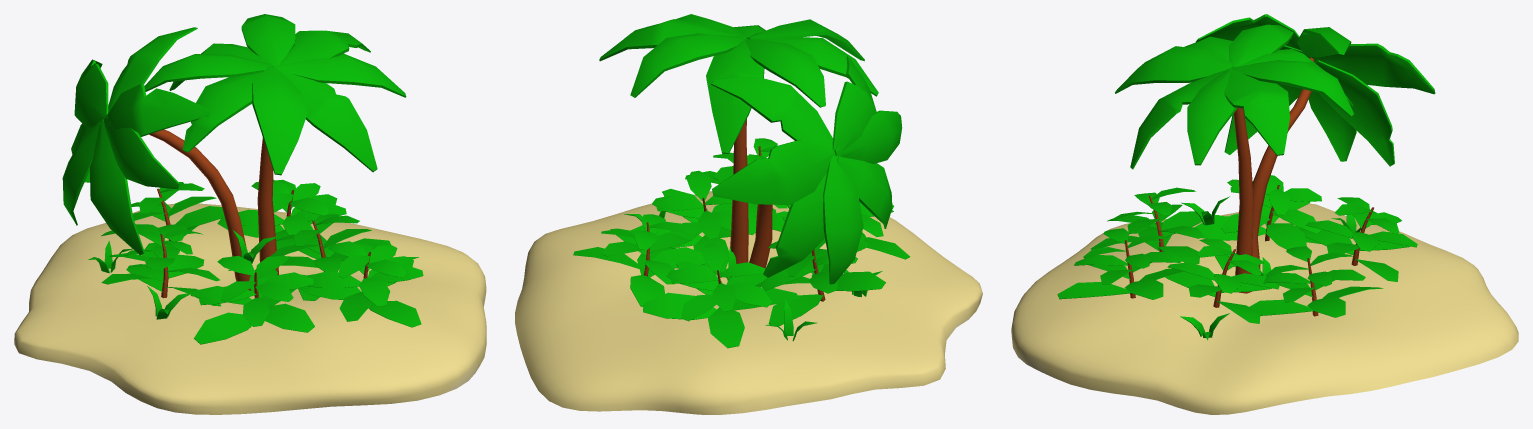
File: Island_small_03.fbx
The picture shows the model from 3 angles, left to right: view 1: azimuth 30°, elevation 25°; view 2: azimuth 150°, elevation 25°; view 3: azimuth 270°, elevation 25°; orthographic projection. The views are drawn at different scales.
Parts seen in each view (by area): view 1: Island_small_03; view 2: Island_small_03; view 3: Island_small_03.
Part boxes in pixels (<box>): Island_small_03: <box>14,14,486,414</box>; Island_small_03: <box>515,14,982,414</box>; Island_small_03: <box>1011,14,1518,414</box>.
Size of the model in its own units: 2385 by 1501 by 2506.
